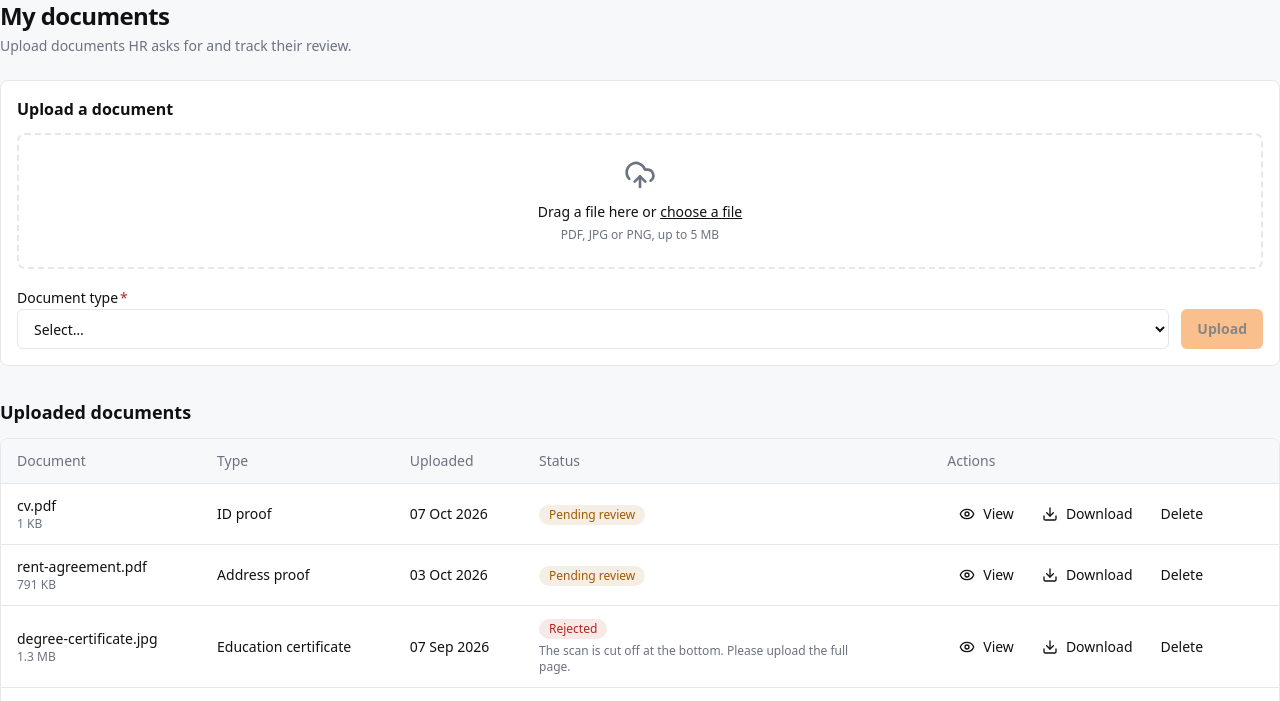
Test: My documents › lets an employee delete a pending document but not a verified one
Click the button with aria-label "Delete rent-agreement.pdf".
click(1182, 575)  # box [1148,559,1215,591]
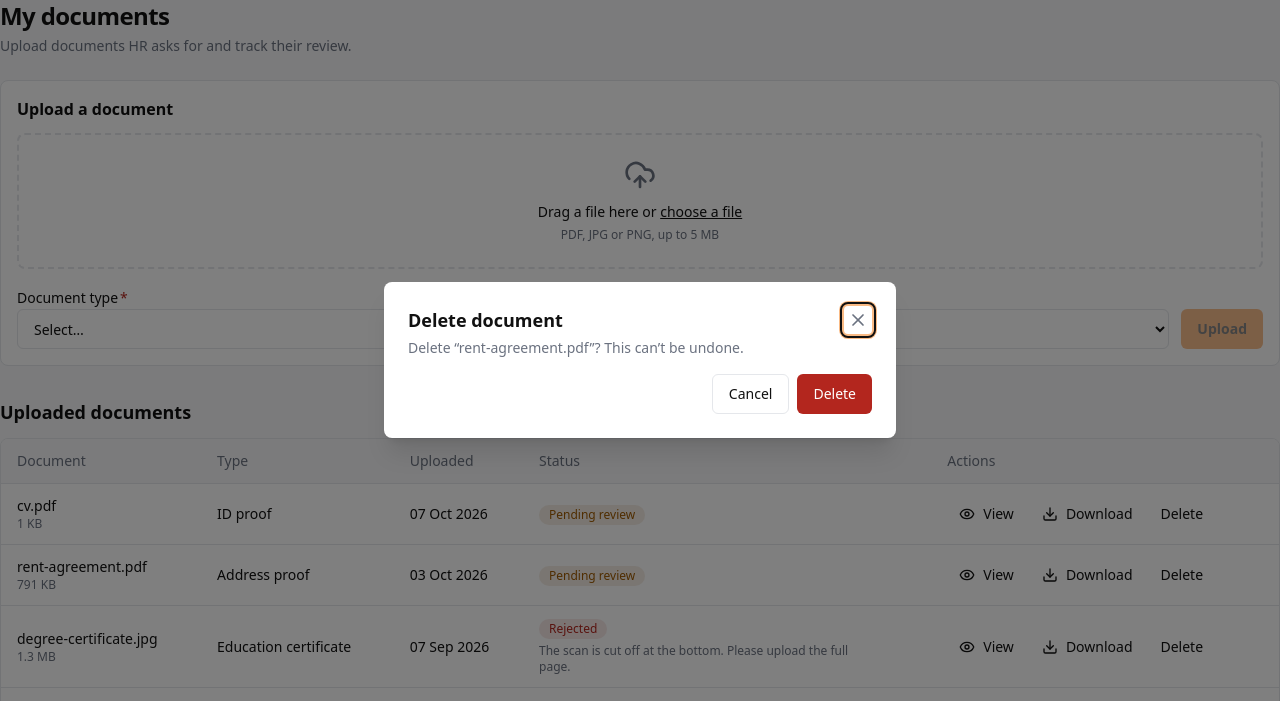
Click the button "Delete".
click(835, 394)  # box [797,374,872,414]
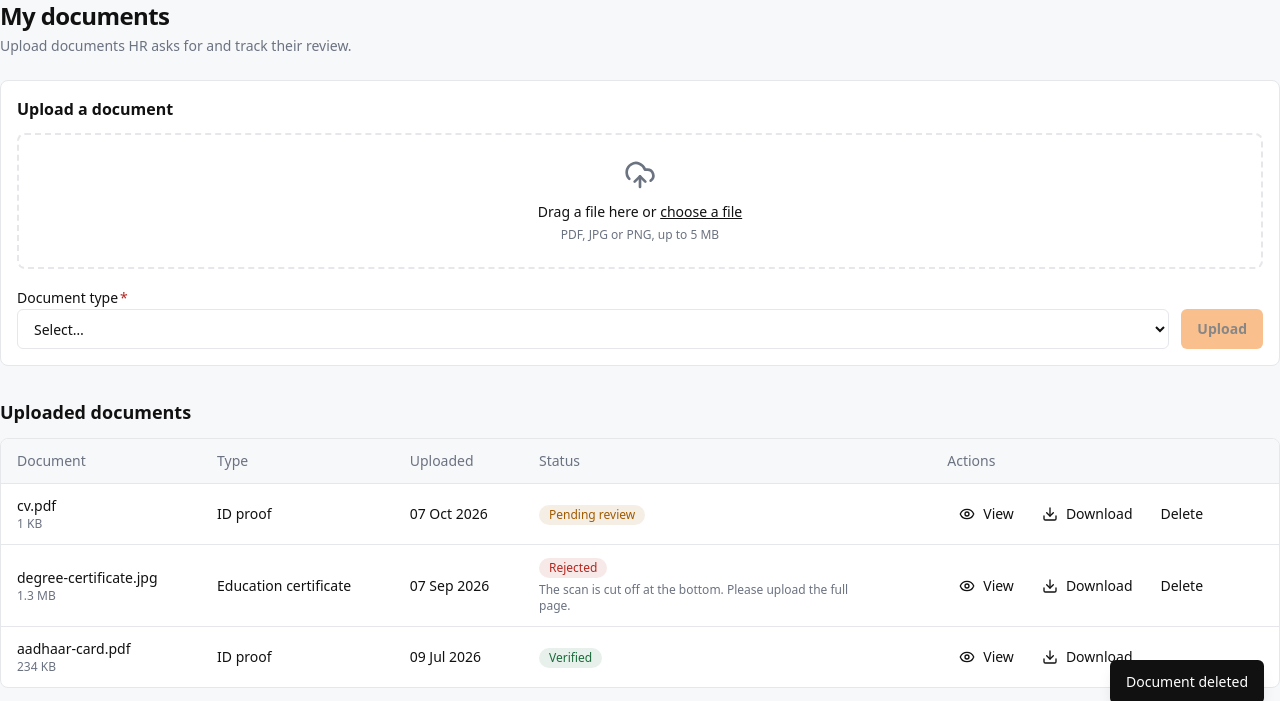
Expected: the text "rent-agreement.pdf" is gone
